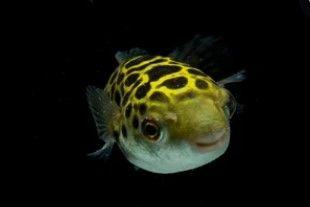Green Spotted Puffer: (88, 44, 244, 175)
